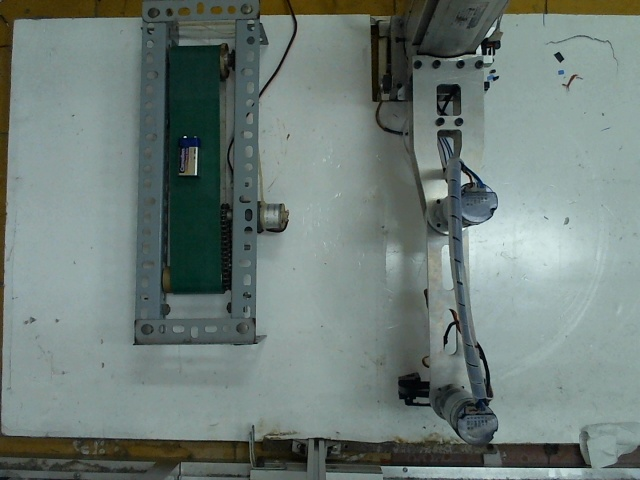battery: (172, 131, 207, 185)
